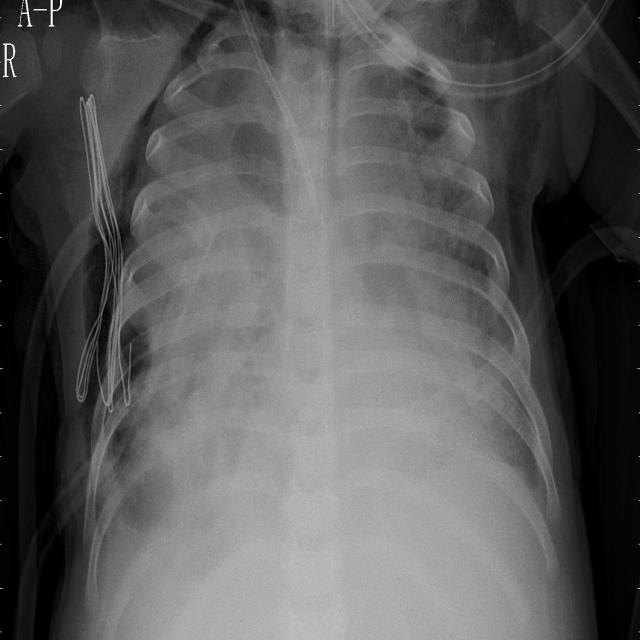high-pneumonia: (147, 175, 281, 413), (104, 378, 262, 560)
low-pneumonia: (353, 85, 515, 404)
